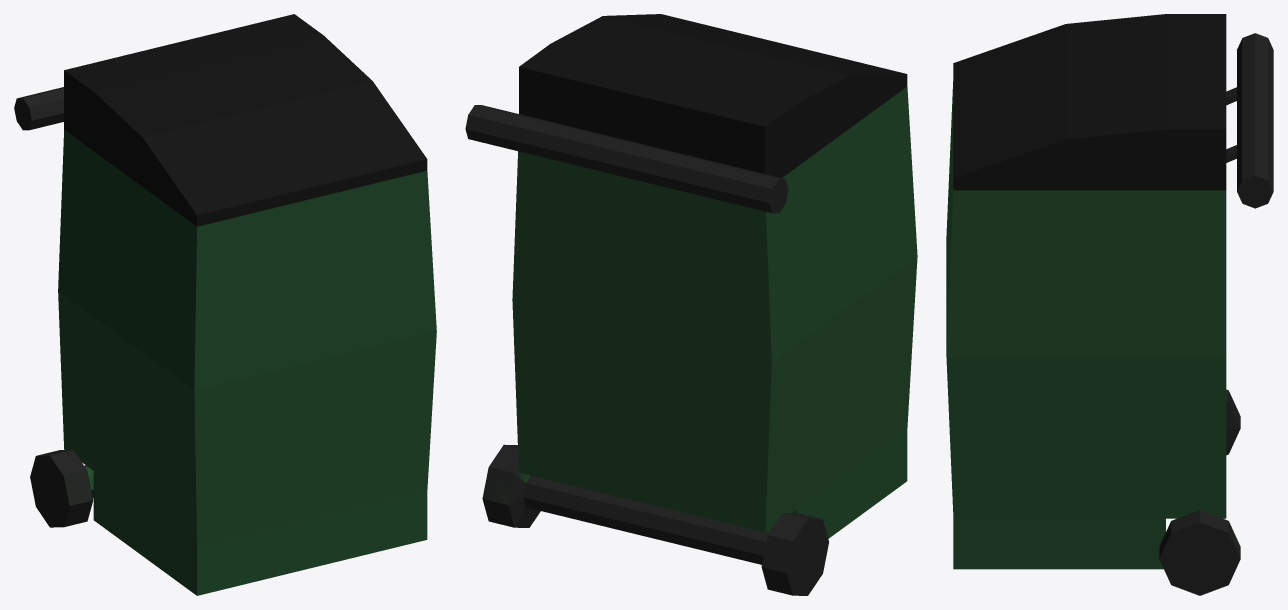
Rendered from SM_trashcan_green.FBX.
3 views of the same model, side by side, from view 1: azimuth 30°, elevation 25°; view 2: azimuth 150°, elevation 25°; view 3: azimuth 270°, elevation 25° (orthographic). The views are drawn at different scales.
Visible parts, largest first — view 1: trashcan; view 2: trashcan; view 3: trashcan.
Part boxes in pixels (x1,y1,x2,y2): trashcan: [14, 14, 436, 595]; trashcan: [465, 14, 917, 595]; trashcan: [946, 14, 1273, 595].
Bounding box in the file's own units: 55.6 × 82.4 × 53.91.
